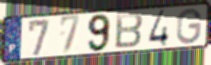4: (146, 8, 171, 49)
7: (58, 13, 81, 57), (26, 18, 51, 57)
9: (86, 13, 114, 53)
B: (114, 12, 145, 50)
G: (175, 8, 203, 45)
